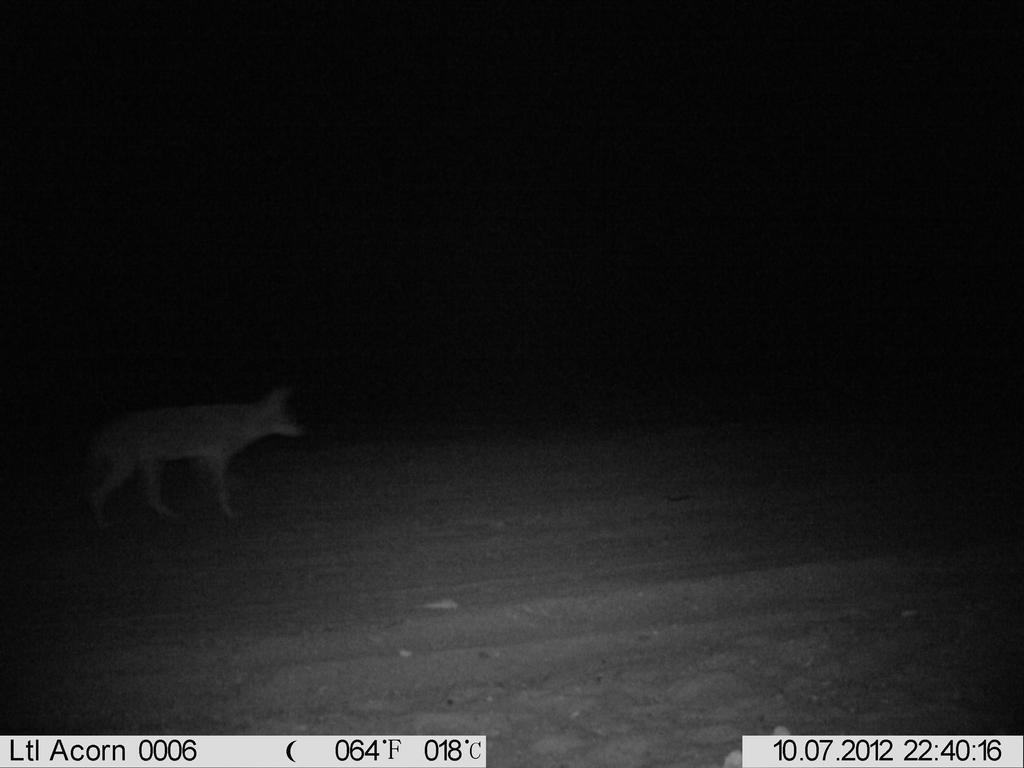coyote: (79, 383, 310, 542)
